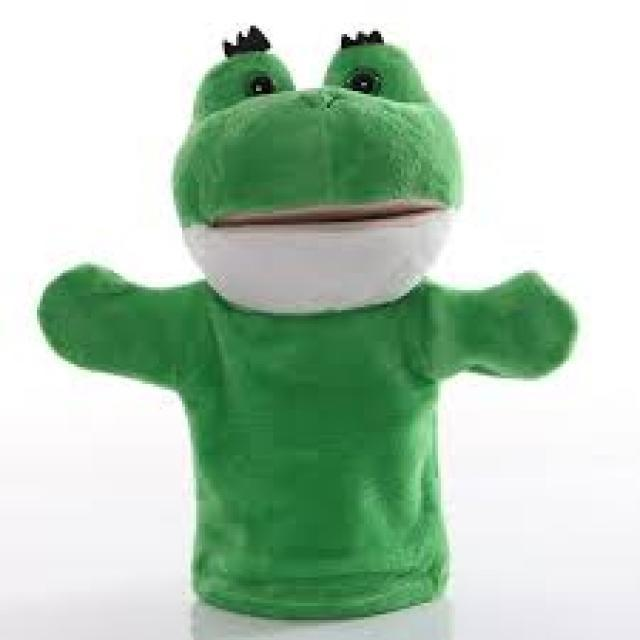soft-toy: (40, 29, 577, 619)
